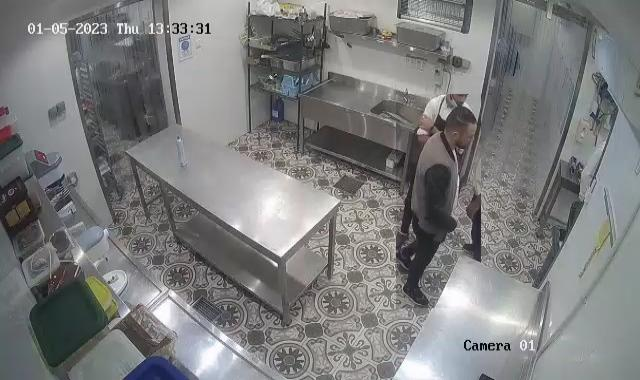no_hairnet: (442, 107, 480, 143)
